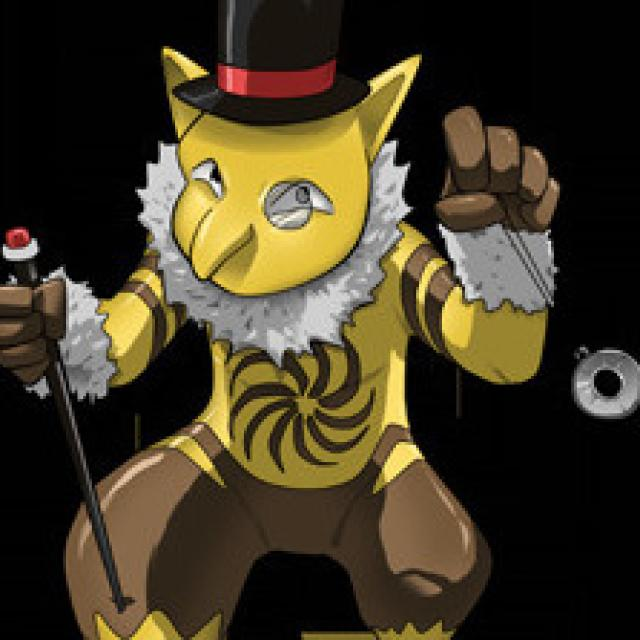Hypno: (106, 108, 544, 640)
